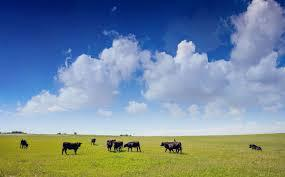cow: (61, 141, 82, 155), (160, 141, 182, 154), (123, 141, 142, 152), (112, 140, 124, 153), (248, 143, 262, 152), (19, 139, 30, 150), (106, 139, 114, 153), (90, 137, 97, 145)
